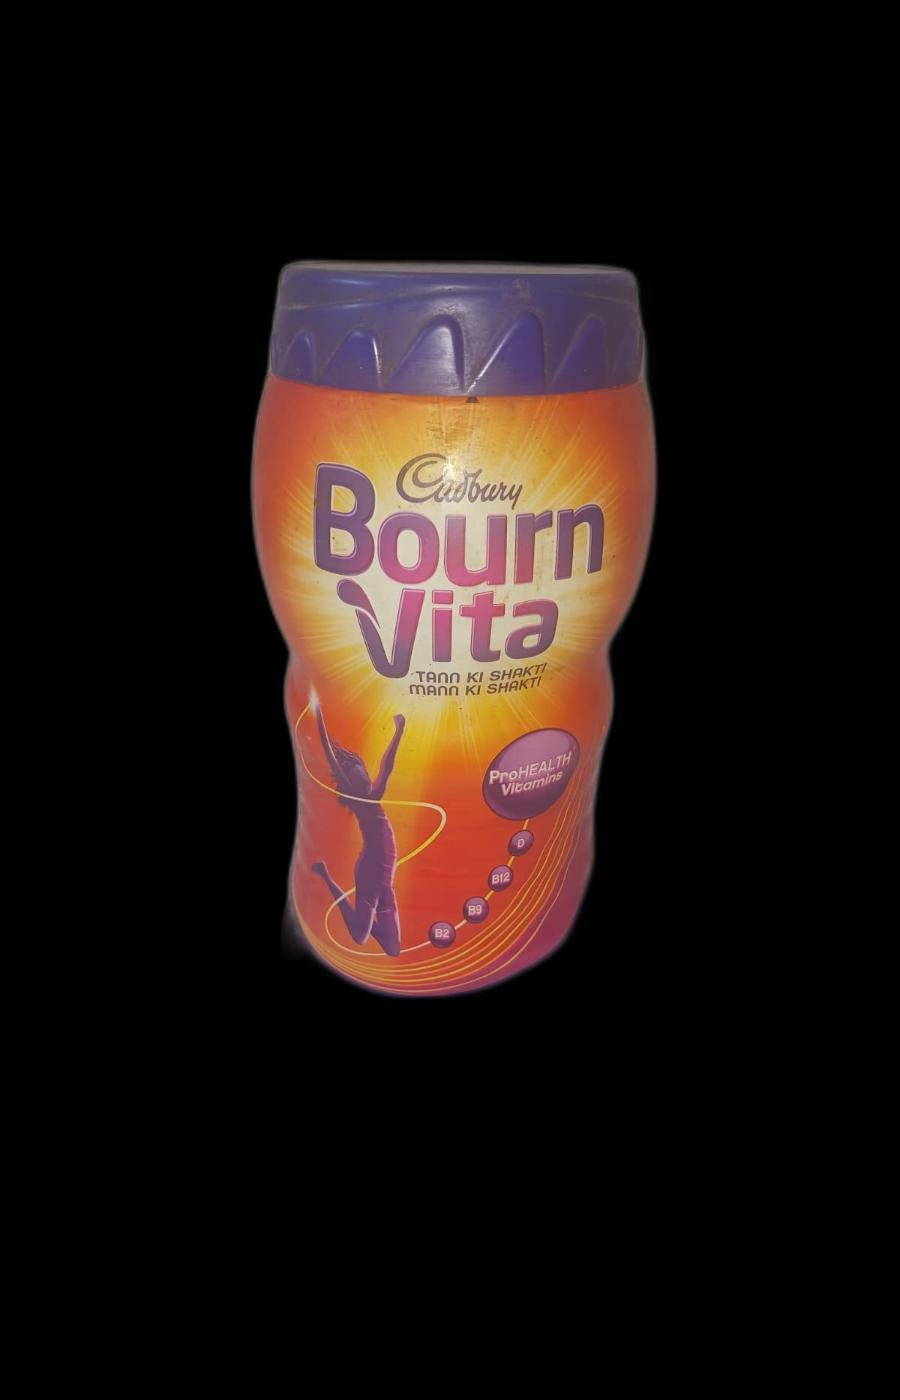Cadbury Bournvita Chocolate Health Drink-1kg-: (248, 235, 668, 1019)
